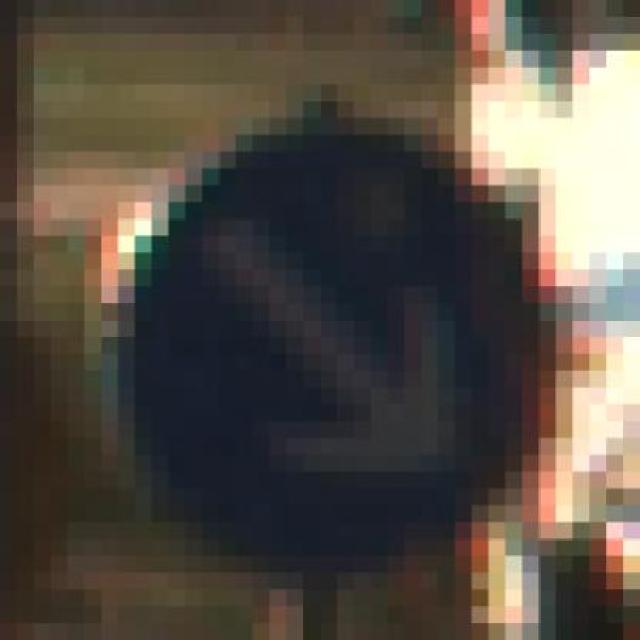Keep-Right: (84, 67, 624, 590)
